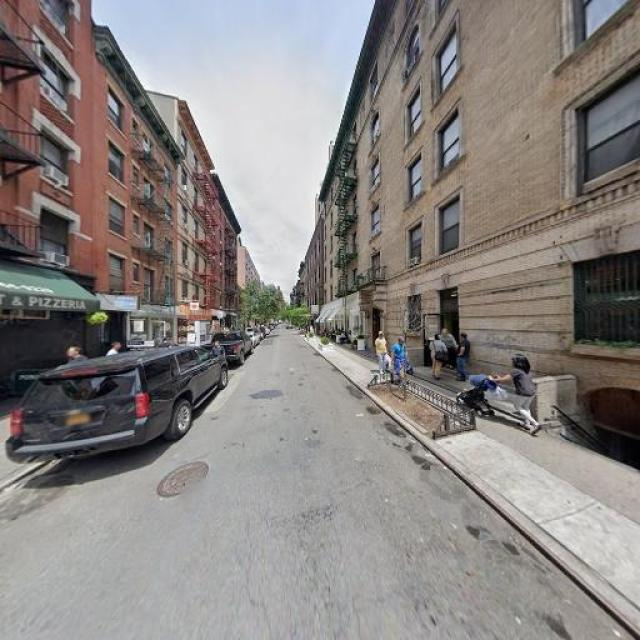Building: (325, 1, 640, 427), (1, 1, 87, 404), (93, 19, 177, 375)
